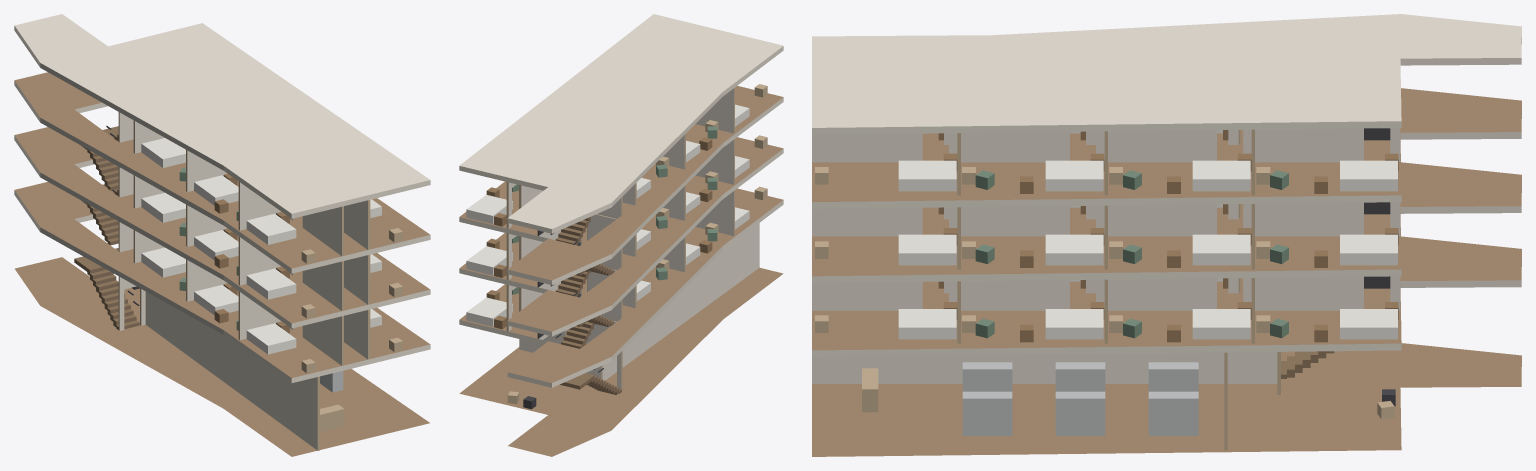
The model's file is interior.glb.
The picture shows the model from 3 angles, left to right: view 1: azimuth 30°, elevation 25°; view 2: azimuth 150°, elevation 25°; view 3: azimuth 270°, elevation 25°; orthographic projection. The views are drawn at different scales.
Visible parts, largest first — view 1: slabs, partitions, coarse-s3, coarse-s1, coarse-s2, stair, coarse-s0; view 2: slabs, partitions, stair, coarse-s3, coarse-s1, coarse-s2; view 3: slabs, partitions, coarse-s0, coarse-s3, coarse-s2, coarse-s1, stair.
Boxes of the visible parts, x1,y1,x2,y2 form: slabs: (14, 14, 430, 456); partitions: (118, 112, 370, 450); coarse-s3: (141, 138, 402, 263); coarse-s1: (141, 247, 402, 373); coarse-s2: (141, 193, 402, 318); stair: (74, 126, 139, 329); coarse-s0: (132, 286, 344, 431); slabs: (459, 14, 783, 456); partitions: (506, 88, 759, 391); stair: (537, 217, 621, 394); coarse-s3: (466, 84, 767, 226); coarse-s1: (466, 186, 767, 329); coarse-s2: (466, 135, 767, 277); slabs: (812, 14, 1521, 456); partitions: (812, 128, 1400, 450); coarse-s0: (862, 362, 1395, 435); coarse-s3: (815, 130, 1398, 193); coarse-s2: (815, 204, 1398, 267); coarse-s1: (815, 278, 1398, 342); stair: (1281, 128, 1390, 378).
Bounding box in the file's own units: 9.28 × 12.5 × 24.41.
